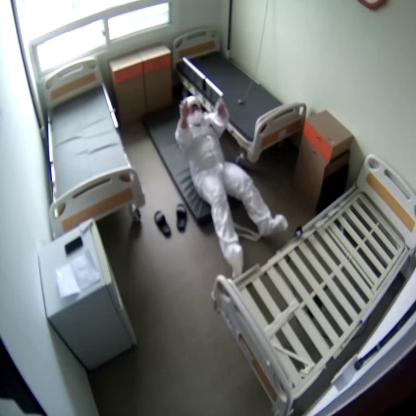Person: (176, 96, 288, 273)
